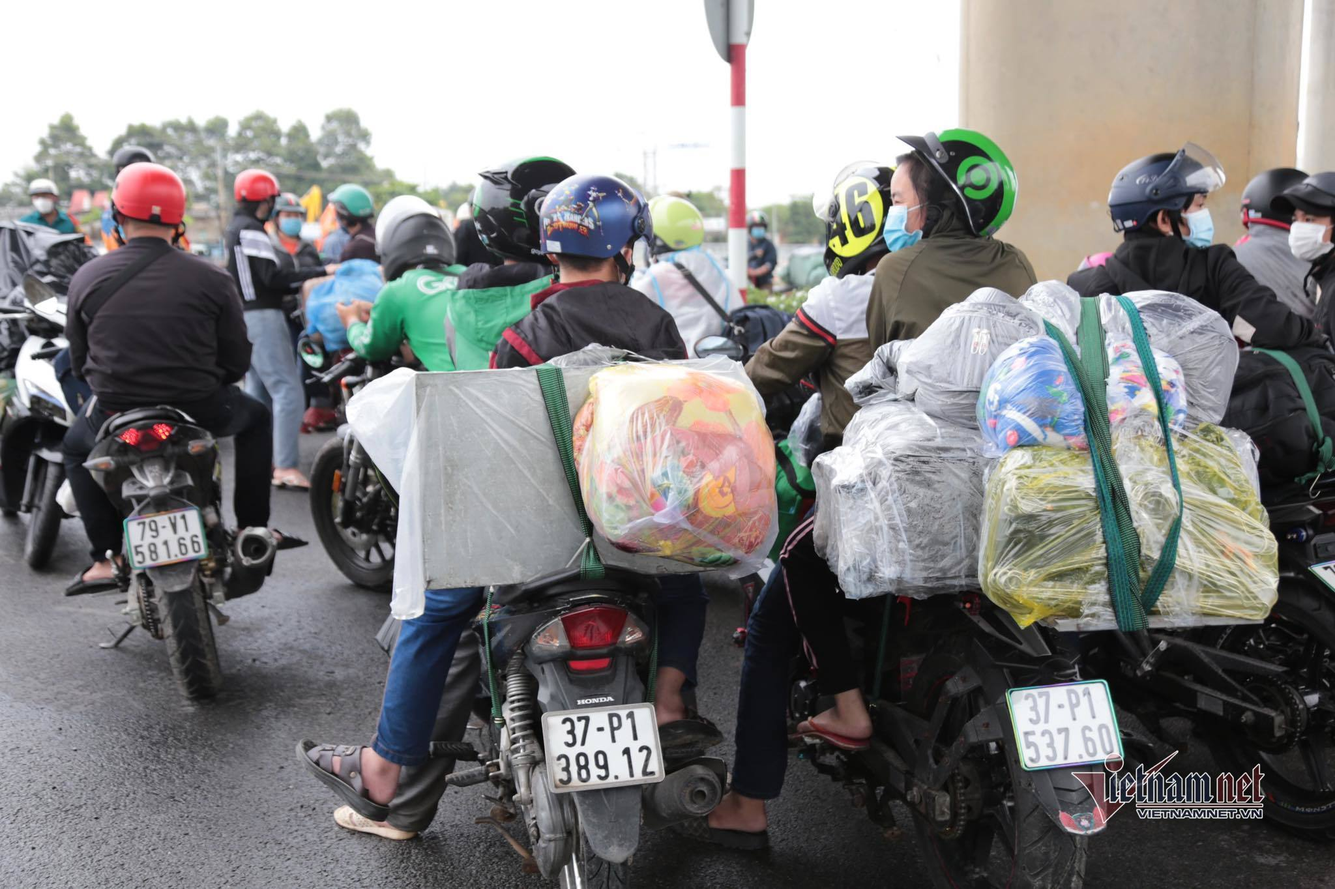Bien-so: (544, 702, 667, 793), (1008, 682, 1123, 771), (129, 506, 210, 571)
